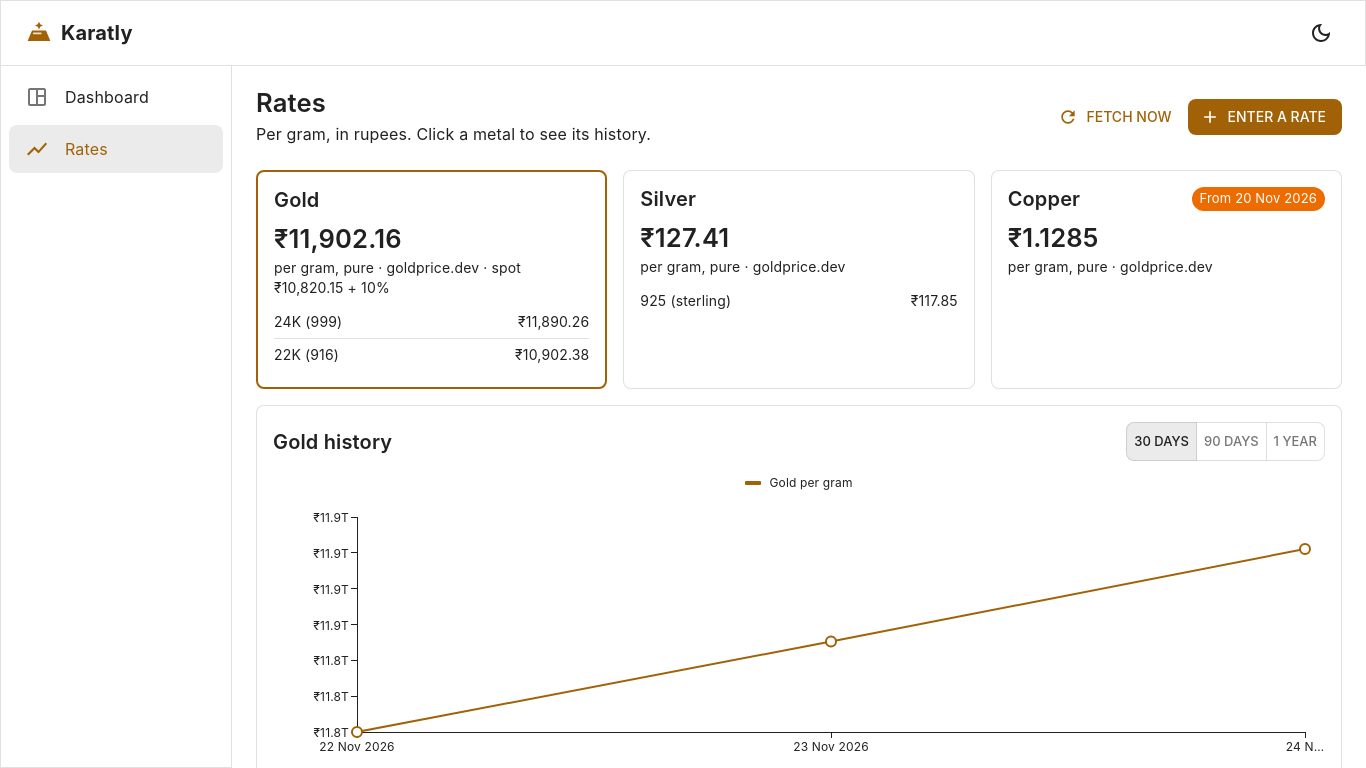
Rates page › fetches now and says what each provider did
This screenshot has width=1366, height=768.
Click the button "Fetch now" at (1117, 117), box x1=1054 y1=99 x2=1180 y2=135
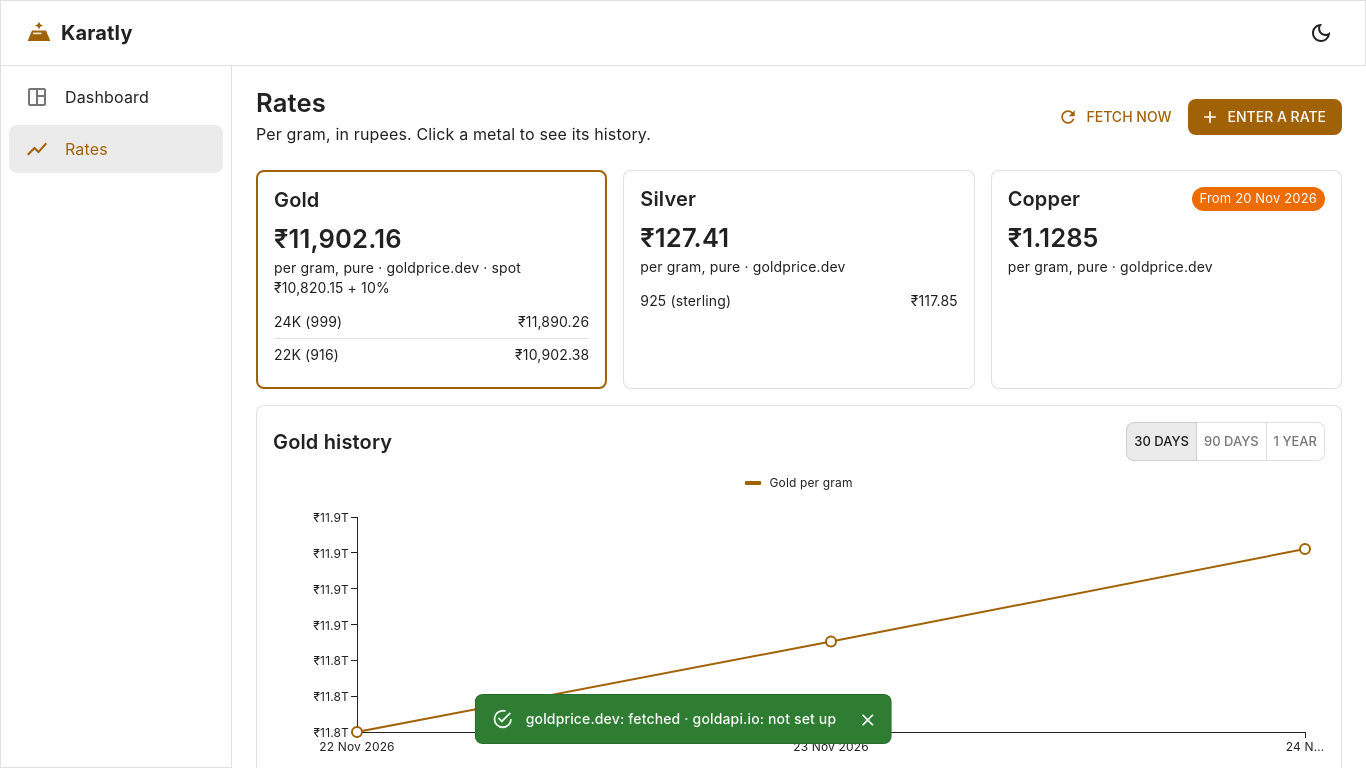
Expected: the text "goldprice.dev: fetched · goldapi.io: not set up" is shown, x1=526 y1=710 x2=836 y2=727
